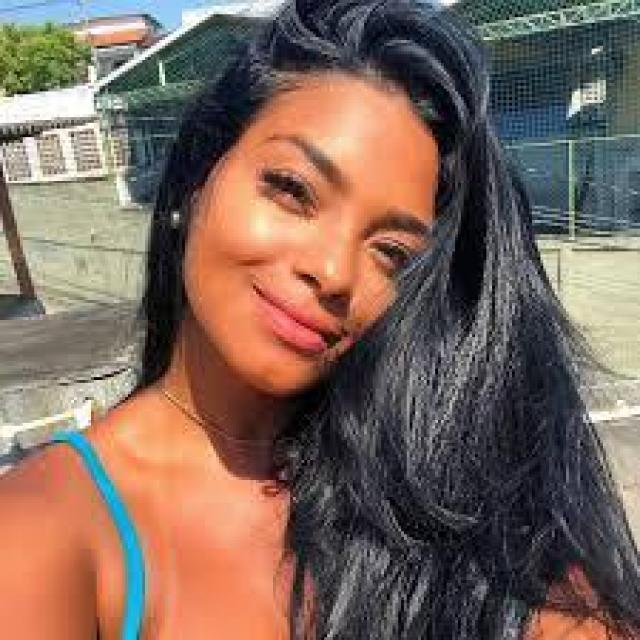person: (5, 0, 625, 634)
